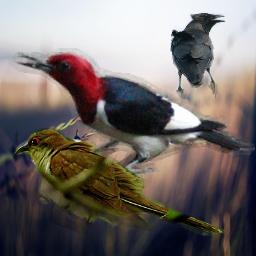Crow: (170, 10, 226, 99)
Cuckoo: (14, 127, 225, 236)
Woodpecker: (8, 46, 255, 184)
